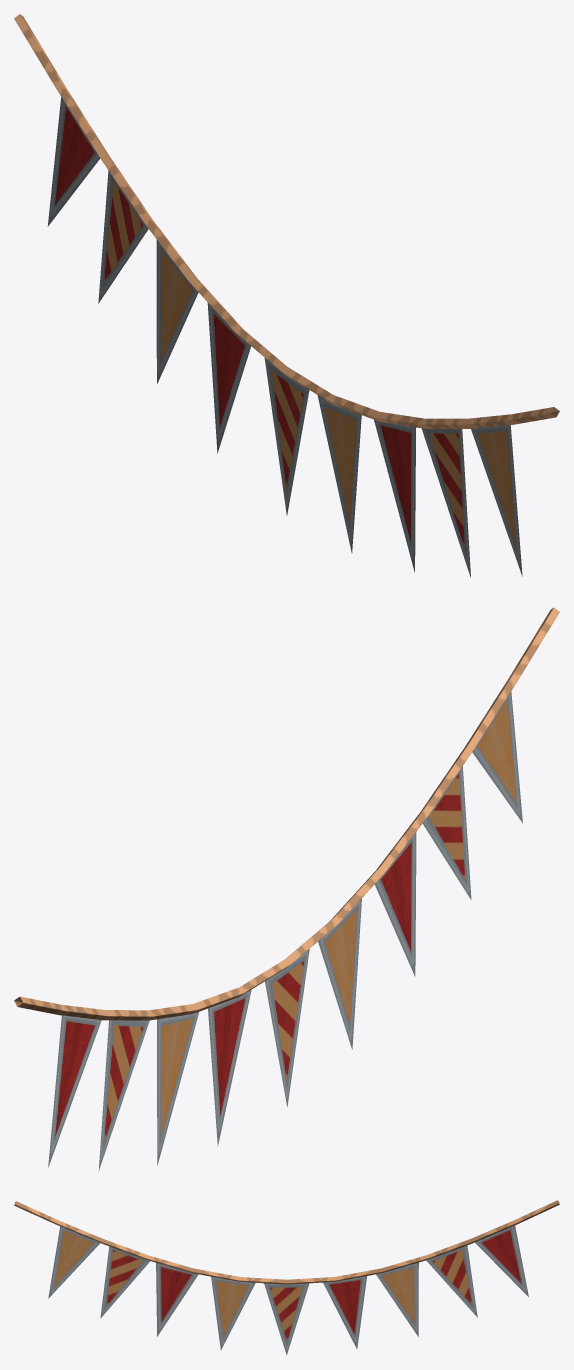
The model's file is Small_flags_3.fbx.
3 renders of one model, top to bottom at view 1: azimuth 30°, elevation 25°; view 2: azimuth 150°, elevation 25°; view 3: azimuth 270°, elevation 25°, orthographic. The views are drawn at different scales.
Visible parts, largest first — view 1: sweep4; view 2: sweep4; view 3: sweep4.
Part boxes in pixels (x1,y1,x2,y2): sweep4: (14,14,559,577); sweep4: (14,607,559,1170); sweep4: (14,1200,559,1355).
Size of the model in its own units: 2 by 63.13 by 201.
